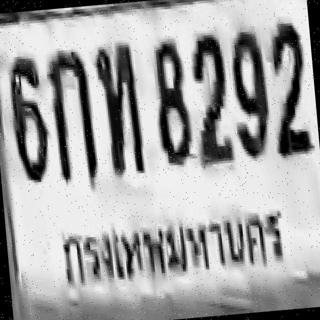A01: (44, 46, 97, 183)
A23: (92, 39, 145, 176)
N02: (266, 20, 312, 156), (188, 31, 233, 165)
N06: (5, 51, 51, 182)
N08: (150, 38, 192, 166)
N09: (227, 28, 271, 160)
P04: (52, 201, 291, 296)
